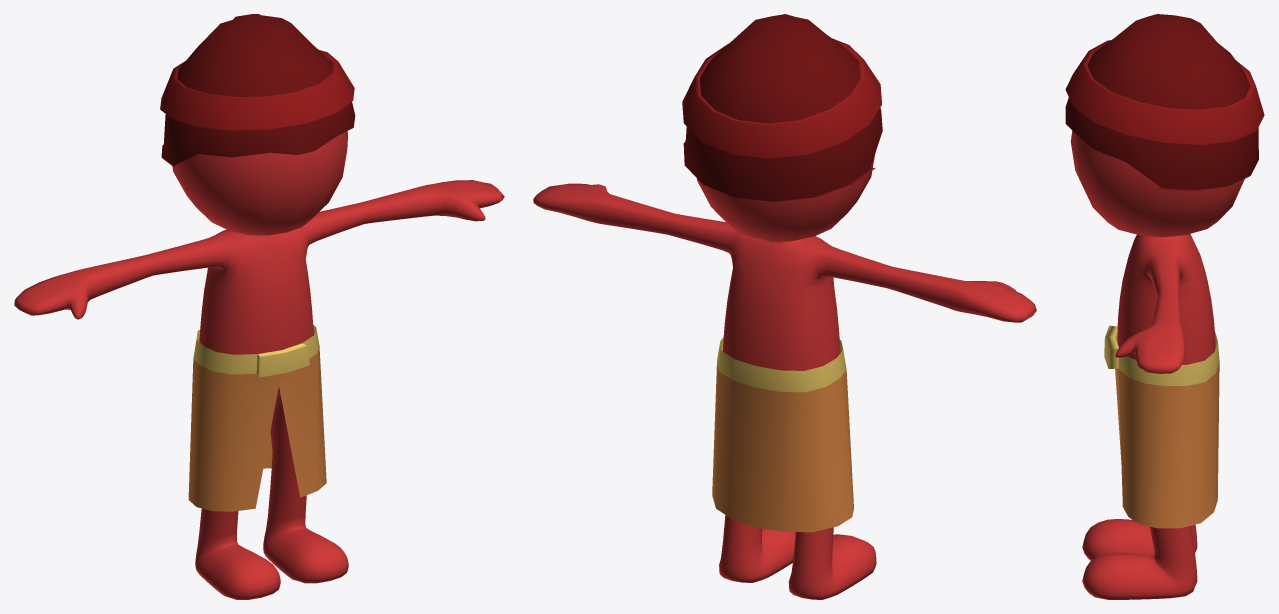
File: Enemy1_v1.fbx
3 renders of one model, left to right at view 1: azimuth 30°, elevation 25°; view 2: azimuth 150°, elevation 25°; view 3: azimuth 270°, elevation 25°, orthographic. The views are drawn at different scales.
Visible parts, largest first — view 1: polySurface32, polySurface33, polySurface44; view 2: polySurface32, polySurface33, polySurface44; view 3: polySurface32, polySurface33, polySurface44.
Boxes of the visible parts, x1=… form: polySurface32: x1=14, y1=131, x2=504, y2=599; polySurface33: x1=160, y1=14, x2=355, y2=167; polySurface44: x1=188, y1=325, x2=326, y2=511; polySurface32: x1=533, y1=155, x2=1036, y2=599; polySurface33: x1=682, y1=14, x2=882, y2=201; polySurface44: x1=712, y1=337, x2=853, y2=532; polySurface32: x1=1070, y1=131, x2=1244, y2=599; polySurface33: x1=1065, y1=14, x2=1264, y2=191; polySurface44: x1=1104, y1=325, x2=1219, y2=528.
Size of the model in its own units: 678 by 734 by 239.
